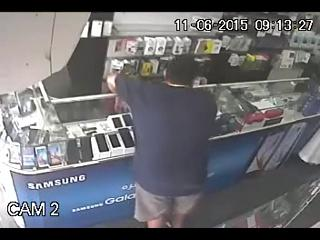shoplifting: (106, 54, 218, 226)
